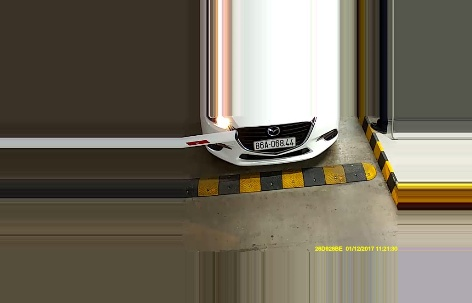plate: (252, 135, 297, 149)
